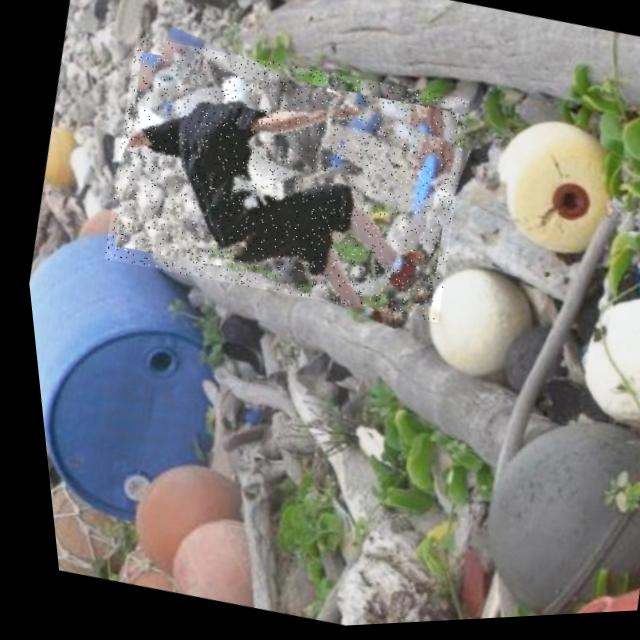Person in Rubble: (80, 23, 485, 339)
